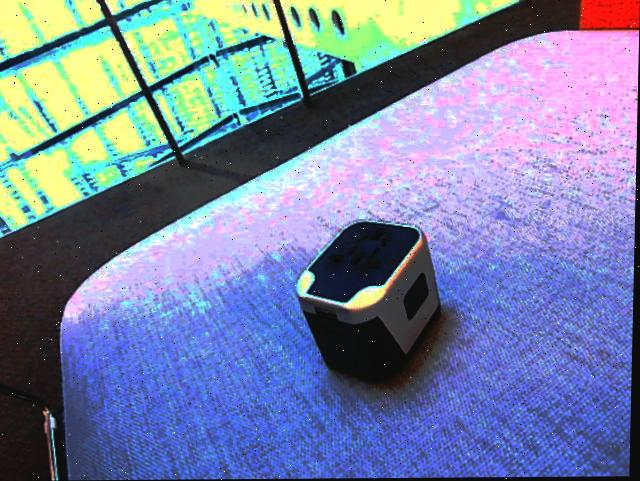adapter: (294, 219, 444, 382)
